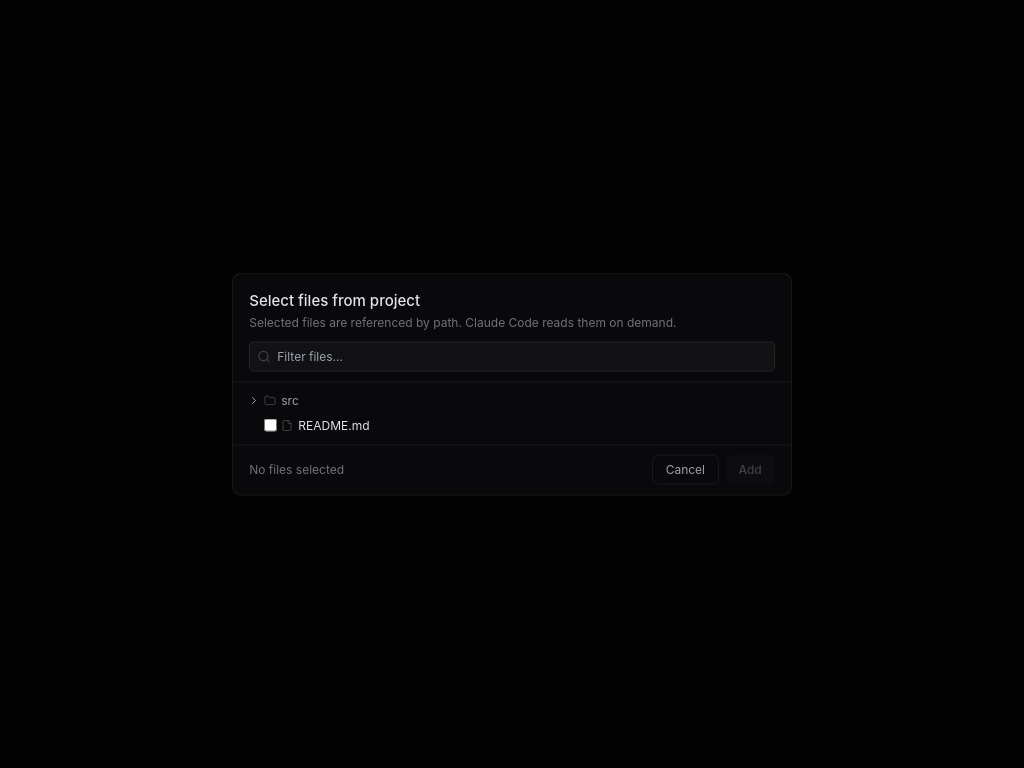
Test case: ProjectFilePicker › filter query switches to flat results listing only matching files
The width and height of the screenshot is (1024, 768).
Expected: the text "src" is shown, [281,392,299,410]
Type "tsx" into the field labelled "Filter files" at (522,357), box [277,348,767,366]
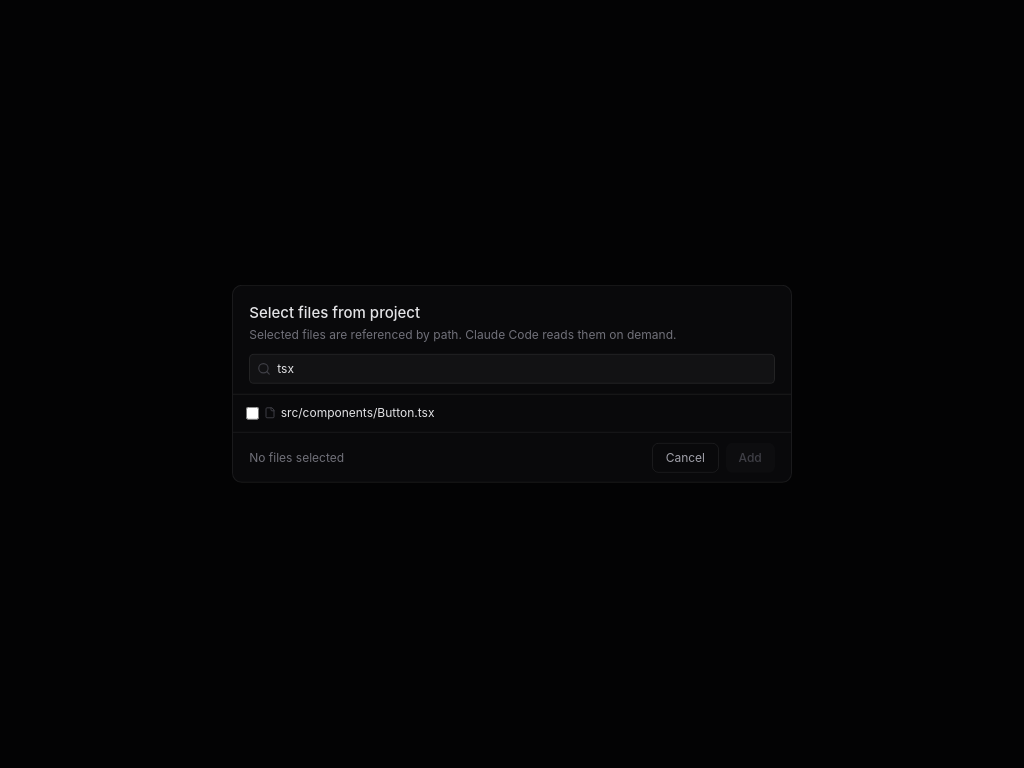
Expected: the text "README.md" is gone
Expected: the text "src/components/Button.tsx" is shown, [281,404,434,422]
